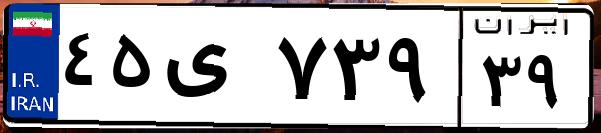3: (330, 28, 385, 110), (475, 38, 525, 113)
4: (57, 26, 110, 100)
5: (110, 28, 158, 98)
7: (270, 28, 330, 110)
9: (385, 28, 445, 110), (525, 38, 570, 115)
ی: (158, 20, 270, 120)
